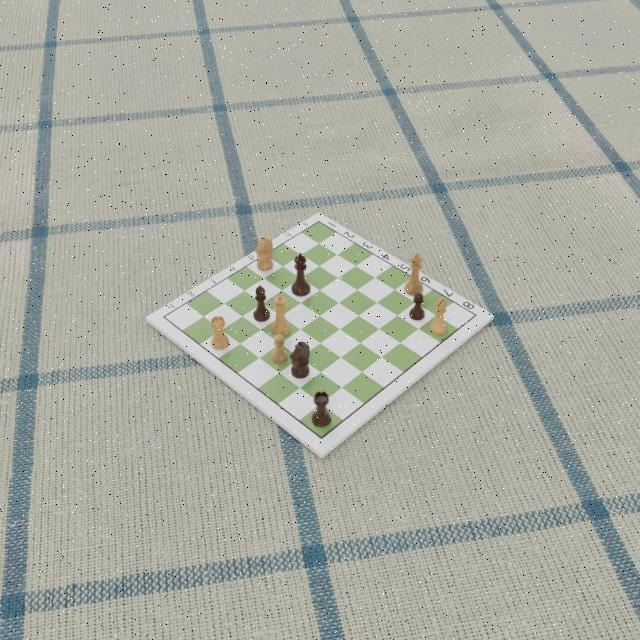black-bishop: (251, 283, 269, 324)
black-king: (290, 252, 311, 298)
black-knight: (290, 340, 311, 382)
black-pawn: (410, 293, 425, 321)
black-rook: (312, 389, 330, 429)
white-bishop: (429, 295, 447, 336)
white-king: (402, 250, 425, 297)
white-knight: (254, 235, 274, 273)
white-pawn: (271, 334, 288, 366)
white-queen: (270, 292, 290, 337)
white-rook: (211, 315, 229, 353)
